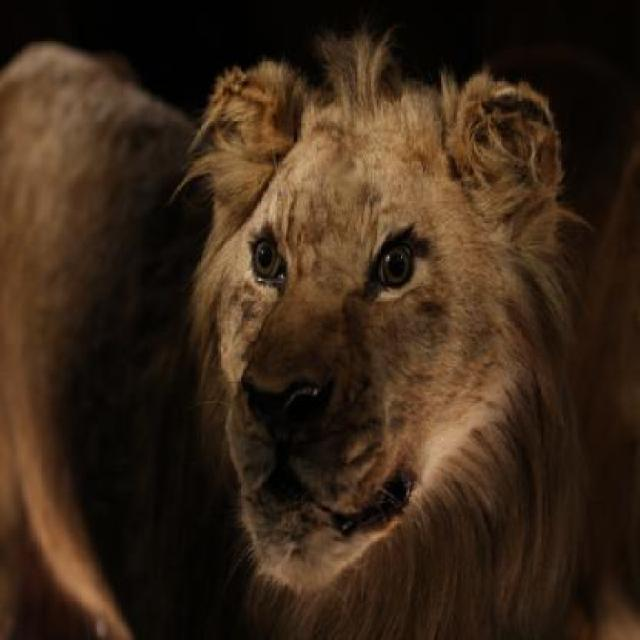Lion: (8, 20, 612, 638)
